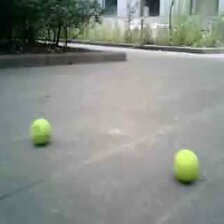tennis: (174, 149, 198, 182), (30, 118, 50, 145)
